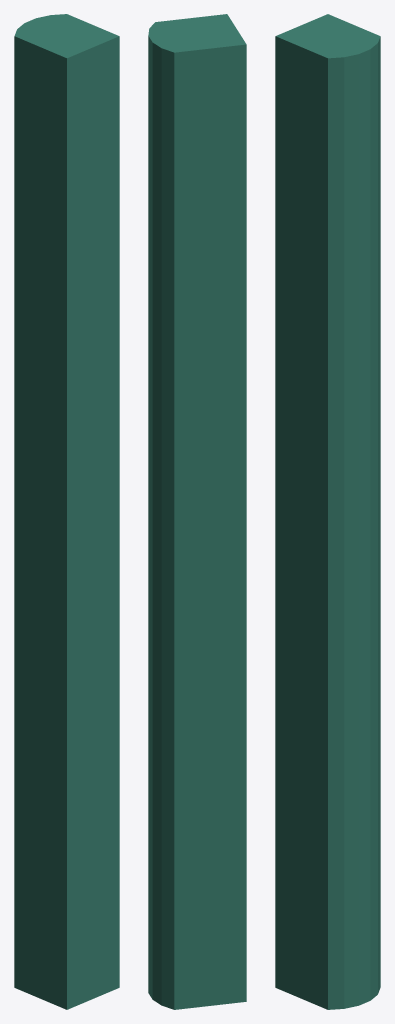
The model's file is Wall_Inner_Curved.obj.
The picture shows the model from 3 angles, left to right: view 1: azimuth 90°, elevation 25°; view 2: azimuth 150°, elevation 25°; view 3: azimuth 270°, elevation 25°; orthographic projection.
Visible parts, largest first — view 1: object1; view 2: object1; view 3: object1.
Part boxes in pixels (bbox=[...]): object1: bbox=[14, 14, 119, 1009]; object1: bbox=[148, 14, 246, 1009]; object1: bbox=[275, 14, 380, 1009].
Bounding box in the file's own units: 0.1 × 1 × 0.1.
